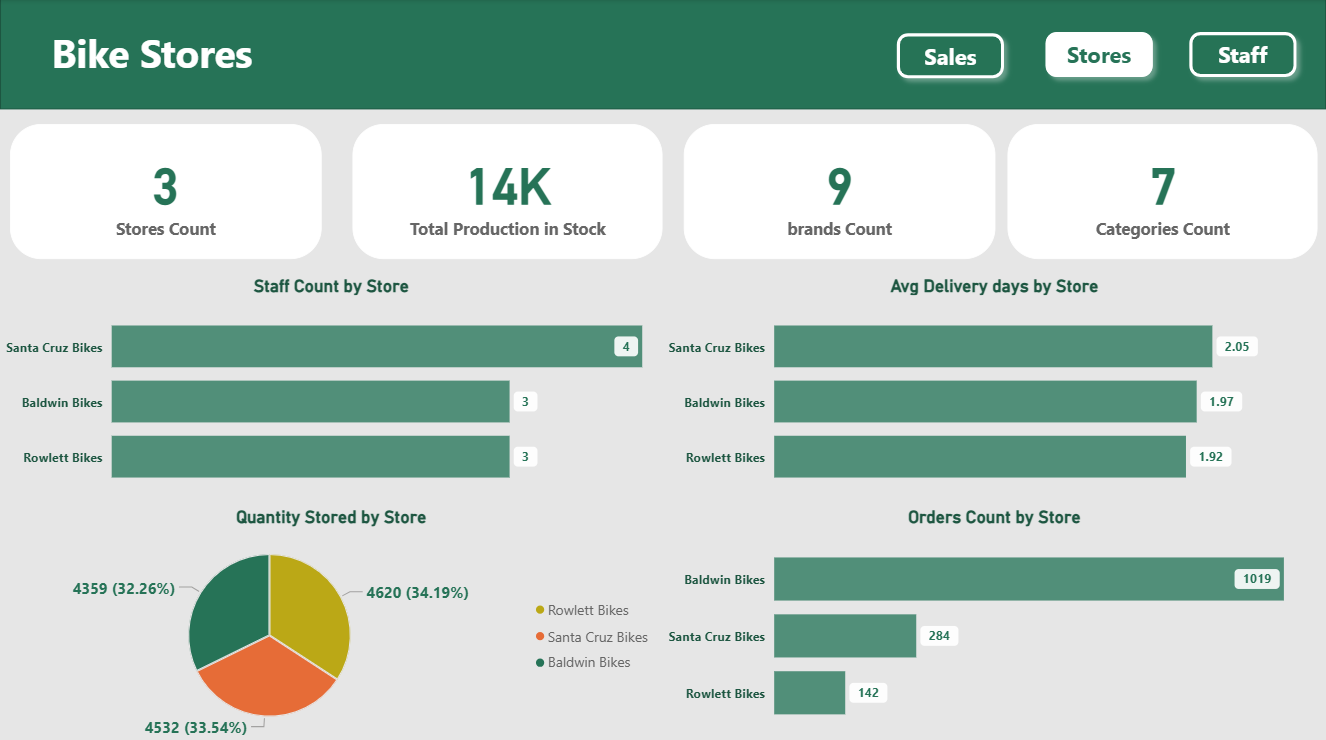

The dashboard page shown, as its layout file describes it:
{"tool":"powerbi","page":{"name":"Stores","canvas":[1280,720],"ordinal":1},"visuals":[{"type":"group","id":"g1","title":"Appbar","box":[0,0,1280,106.7],"z":0},{"type":"shape","box":[0,0,1280,106.7],"z":0,"group":"g1"},{"type":"textbox","box":[44.3,21.4,252.9,62.9],"z":1000,"group":"g1"},{"type":"pieChart","title":"Quantity Stored by Store","fields":{"Y":["Sum(production stocks.quantity)"],"Category":["sales store_staff.store_name"]},"box":[0,490.4,639.5,229.9],"z":1000},{"type":"actionButton","box":[1138.6,22.9,121.4,61.4],"z":1500,"group":"g1"},{"type":"actionButton","box":[1000,22.9,121.4,61.4],"z":2000,"group":"g1"},{"type":"barChart","title":"Staff Count by Store","fields":{"Category":["sales store_staff.store_name"],"Y":["Count(sales store_staff.staff_id)"]},"box":[0,266.6,639.5,223.8],"z":2000},{"type":"actionButton","box":[857.1,24.3,121.4,61.4],"z":2500,"group":"g1"},{"type":"barChart","title":"Orders Count by Store","fields":{"Y":["CountNonNull(sales orders.order_id)"],"Category":["sales store_staff.store_name"]},"box":[639.5,490.4,640.8,229.9],"z":3000},{"type":"barChart","title":"Avg Delivery days by Store","fields":{"Y":["_MeasureTable.avg_delivery_time"],"Category":["sales store_staff.store_name"]},"box":[639.5,266.6,640.8,223.8],"z":4000},{"type":"card","fields":{"Values":["Count(sales store_staff.store_id)"]},"box":[9.7,121,300.4,130.3],"z":5000},{"type":"card","fields":{"Values":["Sum(production stocks.quantity)"]},"box":[340.2,121,299.2,130.3],"z":6000},{"type":"card","fields":{"Values":["CountNonNull(production brands.brand_id)"]},"box":[659.9,120.6,300.4,130.3],"z":7000},{"type":"card","fields":{"Values":["CountNonNull(production categories.category_id)"]},"box":[972.4,120.6,299.2,130.3],"z":8000}]}

Visuals, with their boxes in screenshot pixels (x1, y1, x2, y2), scaled from the page's 1280x720 canvas onto the 1326x740 screenshot:
"Appbar" group: (left=0, top=0, right=1325, bottom=110)
shape: (left=0, top=0, right=1325, bottom=110)
textbox: (left=46, top=22, right=308, bottom=87)
"Quantity Stored by Store" pieChart: (left=0, top=504, right=662, bottom=739)
actionButton: (left=1180, top=24, right=1305, bottom=87)
actionButton: (left=1036, top=24, right=1162, bottom=87)
"Staff Count by Store" barChart: (left=0, top=274, right=662, bottom=504)
actionButton: (left=888, top=25, right=1014, bottom=88)
"Orders Count by Store" barChart: (left=662, top=504, right=1325, bottom=739)
"Avg Delivery days by Store" barChart: (left=662, top=274, right=1325, bottom=504)
card - Count(sales store_staff.store_id): (left=10, top=124, right=321, bottom=258)
card - Sum(production stocks.quantity): (left=352, top=124, right=662, bottom=258)
card - CountNonNull(production brands.brand_id): (left=684, top=124, right=995, bottom=258)
card - CountNonNull(production categories.category_id): (left=1007, top=124, right=1317, bottom=258)
